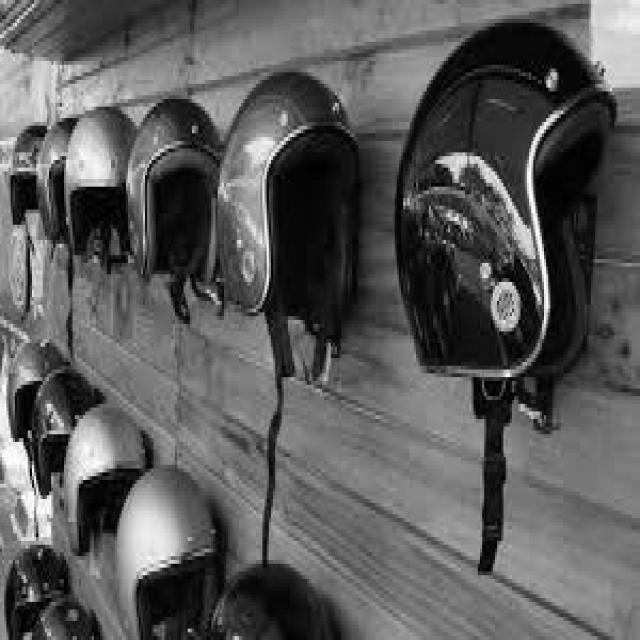Helmet: (398, 22, 612, 378), (219, 72, 358, 347), (118, 469, 225, 640), (128, 99, 219, 274), (12, 344, 104, 495), (65, 404, 146, 553), (65, 108, 134, 266), (212, 564, 342, 640), (6, 545, 102, 639), (36, 119, 77, 243), (10, 125, 46, 224)
